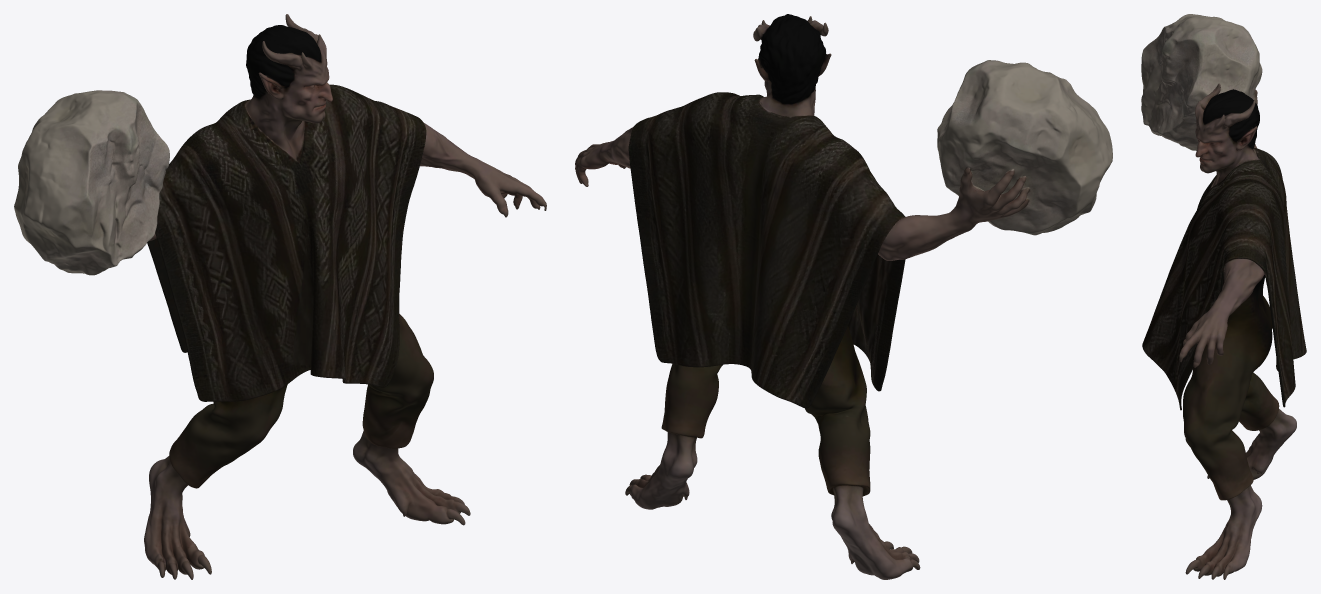
Rendered from 59--el-diablo-y-los-tejos-de-quebrada-negra-optimized.glb.
3 renders of one model, left to right at view 1: azimuth 30°, elevation 25°; view 2: azimuth 150°, elevation 25°; view 3: azimuth 270°, elevation 25°, orthographic. The views are drawn at different scales.
Visible parts, largest first — view 1: tripo_node_a079940f-ea3d-42b5-9cf4-28112ae92a4b; view 2: tripo_node_a079940f-ea3d-42b5-9cf4-28112ae92a4b; view 3: tripo_node_a079940f-ea3d-42b5-9cf4-28112ae92a4b.
Part boxes in pixels (x1,y1,x2,y2): tripo_node_a079940f-ea3d-42b5-9cf4-28112ae92a4b: (14,14,546,579); tripo_node_a079940f-ea3d-42b5-9cf4-28112ae92a4b: (575,14,1112,579); tripo_node_a079940f-ea3d-42b5-9cf4-28112ae92a4b: (1141,14,1306,579).
Bounding box in the file's own units: 1 × 0.9494 × 0.3372.
Materials: 1 (1 with a texture image).
